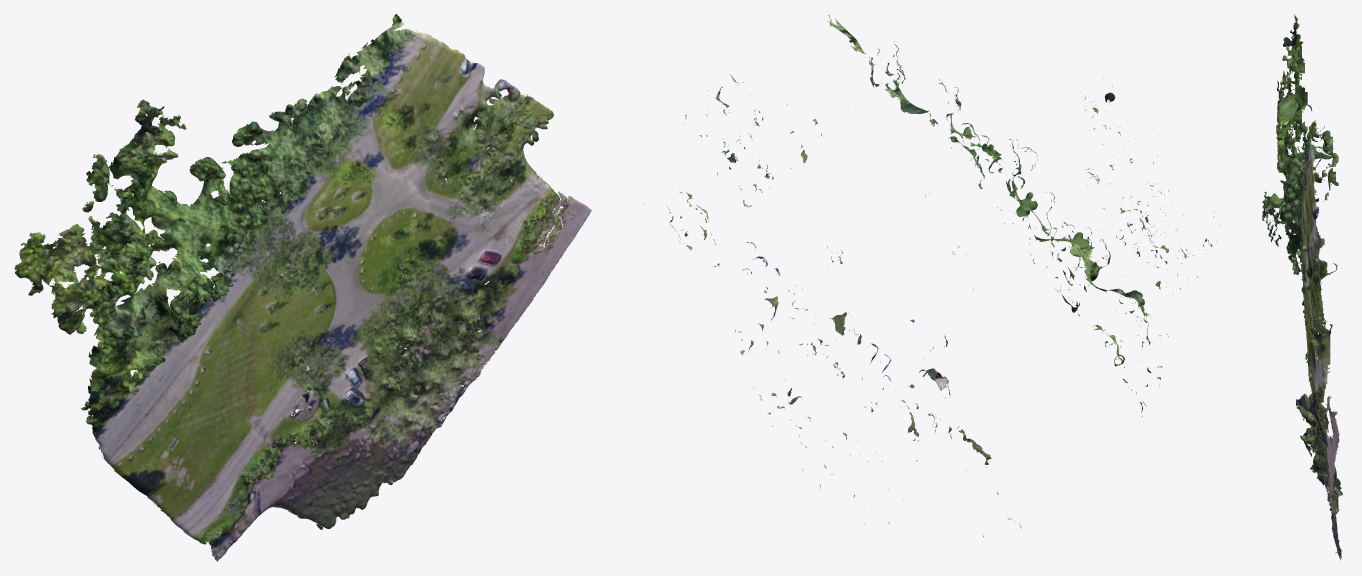
3 views of the same model, side by side, from view 1: azimuth 30°, elevation 25°; view 2: azimuth 150°, elevation 25°; view 3: azimuth 270°, elevation 25° (orthographic). The views are drawn at different scales.
Visible parts, largest first — view 1: Node; view 2: Node; view 3: Node.
Part boxes in pixels (bbox=[...]): Node: bbox=[14, 14, 591, 561]; Node: bbox=[643, 15, 1220, 548]; Node: bbox=[1262, 14, 1342, 560].
Size of the model in its own units: 130 by 106 by 17.93.
10 materials, 10 textured.
